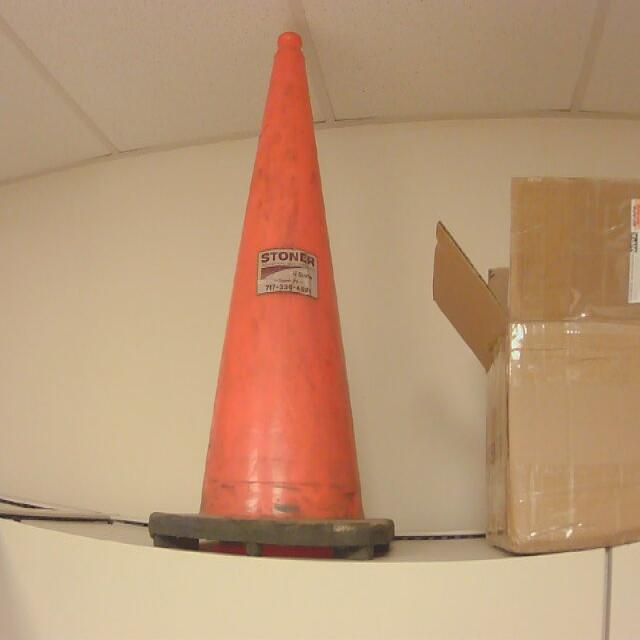traffic cone: (148, 32, 396, 562)
